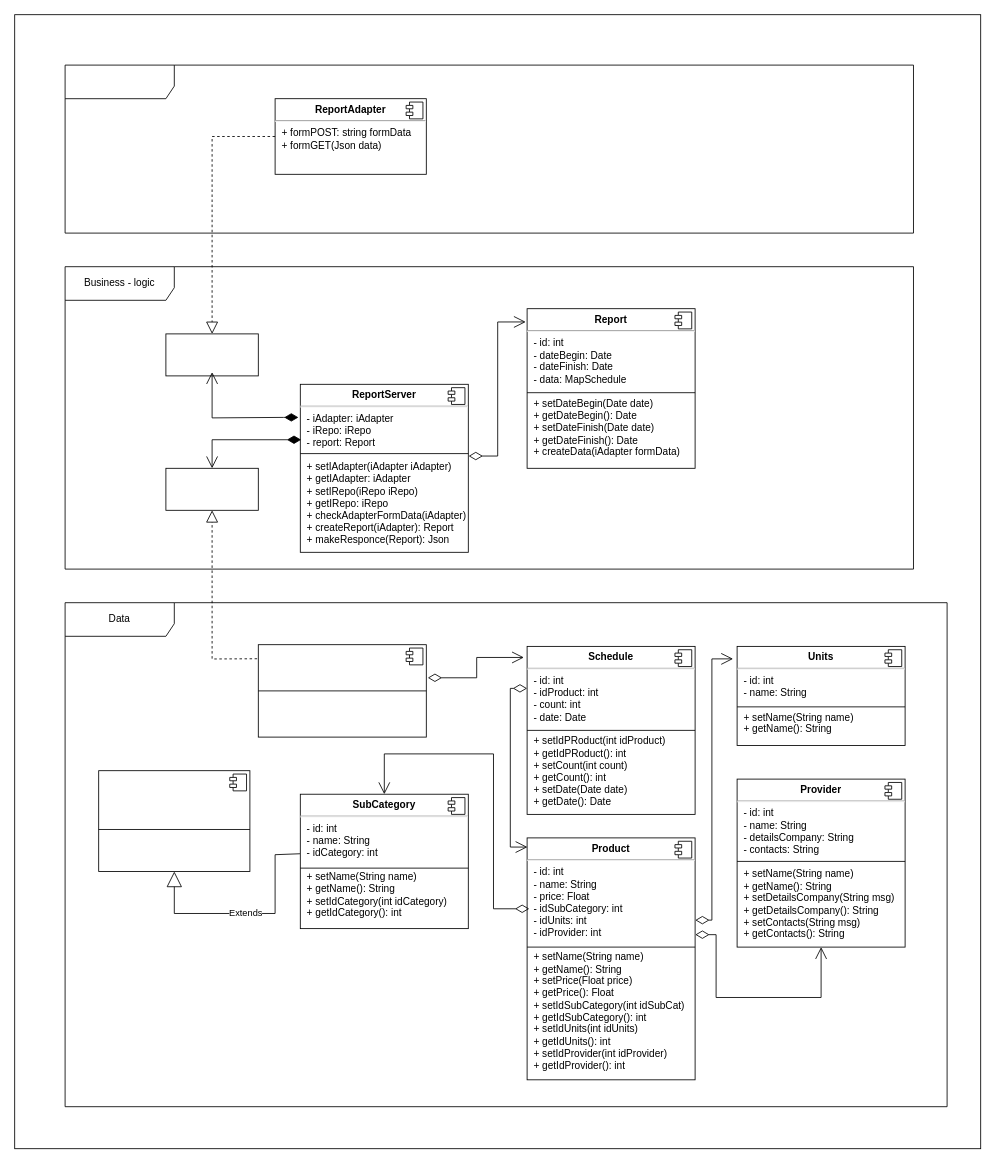
Some shapes in this 995 by 1163 pixel diagram are drawn without their labels. Here are the shapes that lost their labels. From the top down, the centre of each, then its label:
At point 489,148: "Adapter".
At point 211,354: "«interface» iAdapter".
At point 211,488: "«interface» iRepo".
At point 341,690: "ReportRepo - scheduleLst: Schedule [1..*] + createScheduleLst()".
At point 174,821: "Category - id: int - name: String + setName(String name) + getName(): String".
